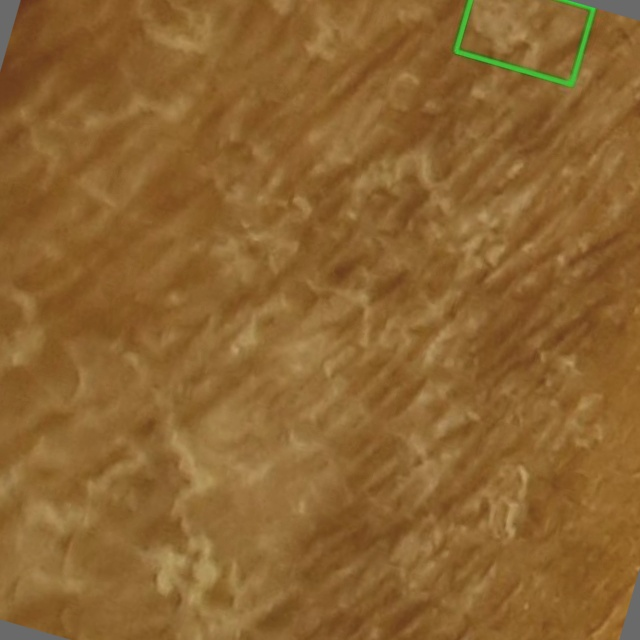Tinea Corporis: (456, 0, 593, 84)
